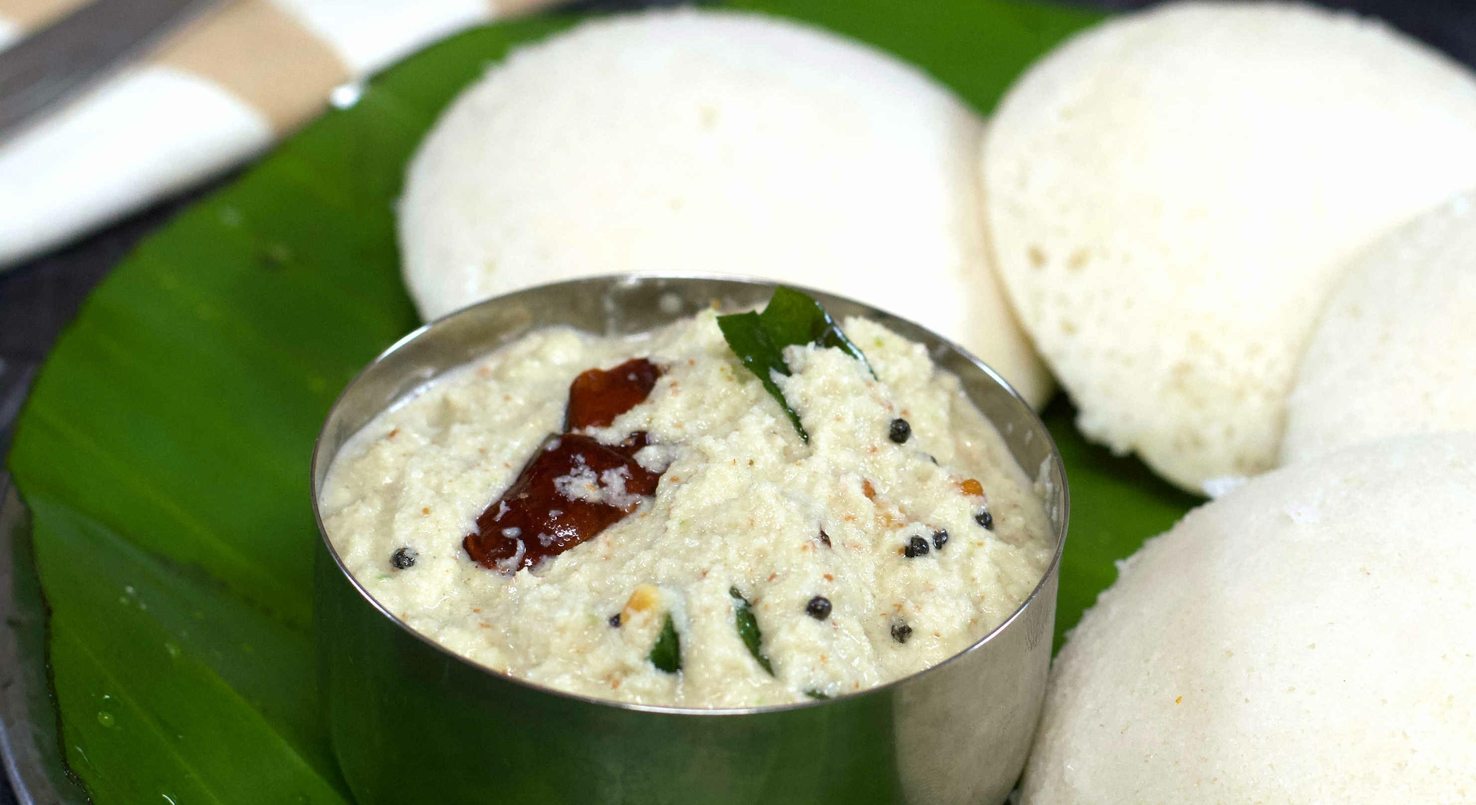CoconutChutney: (335, 310, 1048, 708)
